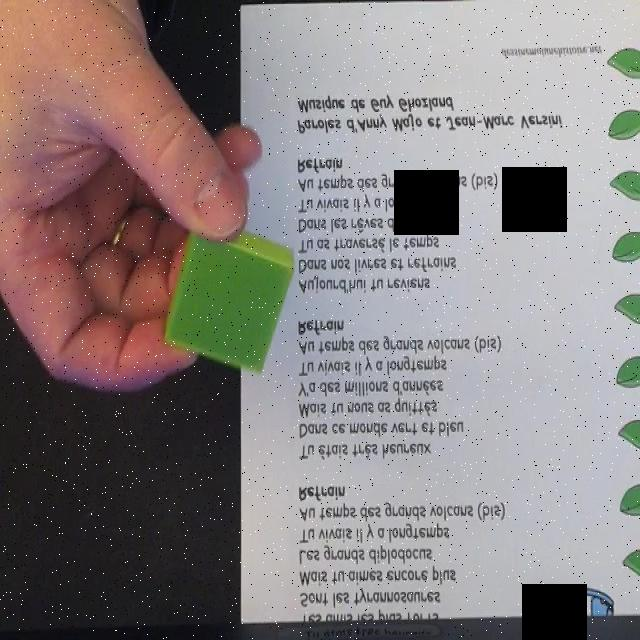square: (165, 221, 295, 375)
